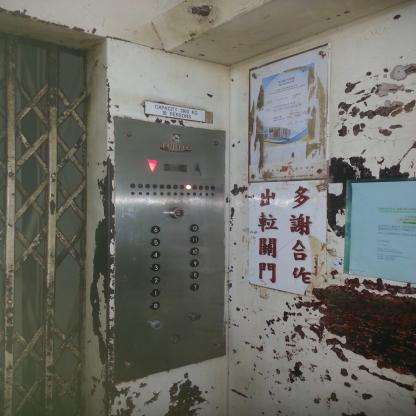1: (150, 288, 160, 297)
10: (189, 247, 199, 255)
11: (189, 236, 199, 244)
12: (189, 224, 199, 232)
2: (150, 276, 160, 284), (144, 184, 150, 188)
3: (150, 263, 160, 271), (152, 184, 157, 188)
4: (150, 250, 160, 259), (159, 184, 164, 188)
5: (149, 238, 160, 246), (166, 184, 171, 189)
6: (150, 226, 160, 233), (172, 184, 178, 189)
7: (189, 283, 199, 291), (179, 184, 184, 189)
8: (189, 271, 199, 278)
9: (189, 259, 199, 267)
G: (150, 302, 160, 310)
blur: (186, 184, 191, 190), (192, 184, 197, 190), (130, 183, 135, 188), (198, 185, 203, 190), (210, 185, 215, 190), (138, 183, 142, 188), (205, 185, 209, 190)
keyhole: (170, 334, 180, 344)
text: (169, 207, 185, 219)
text_fan: (190, 312, 201, 321)
text_light: (150, 319, 162, 330)
